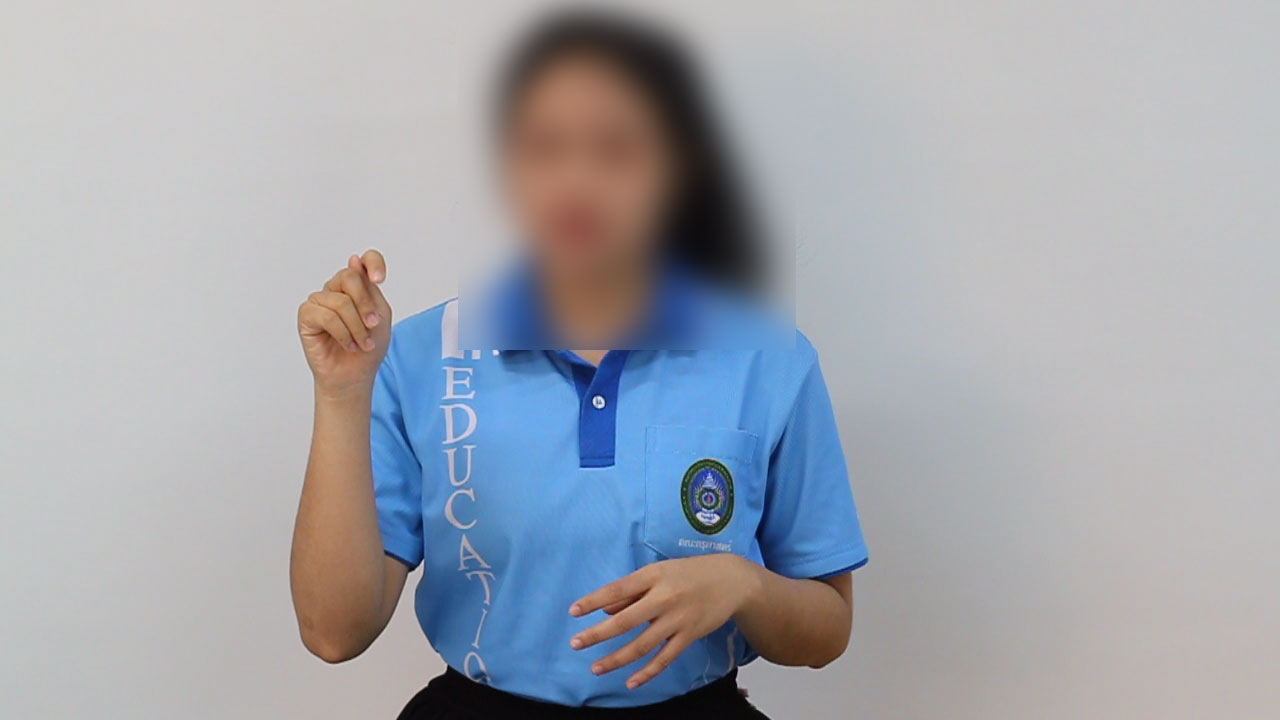tor: (281, 234, 412, 403)
